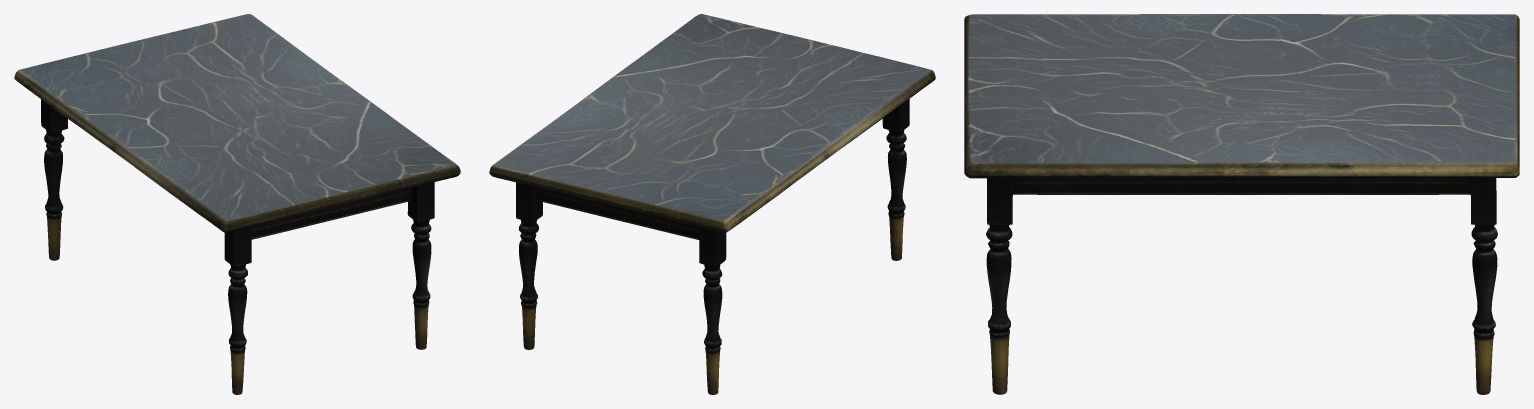
Rendered from ROY 6.glb.
The picture shows the model from 3 angles, left to right: view 1: azimuth 30°, elevation 25°; view 2: azimuth 150°, elevation 25°; view 3: azimuth 270°, elevation 25°; orthographic projection. The views are drawn at different scales.
Visible parts, largest first — view 1: world; view 2: world; view 3: world.
Part boxes in pixels (box(x1,y1,x2,y2)): world: box(14, 14, 460, 394); world: box(489, 14, 935, 394); world: box(964, 14, 1519, 394).
Bounding box in the file's own units: 0.6573 × 0.4884 × 1.
Materials: 1 (1 with a texture image).
